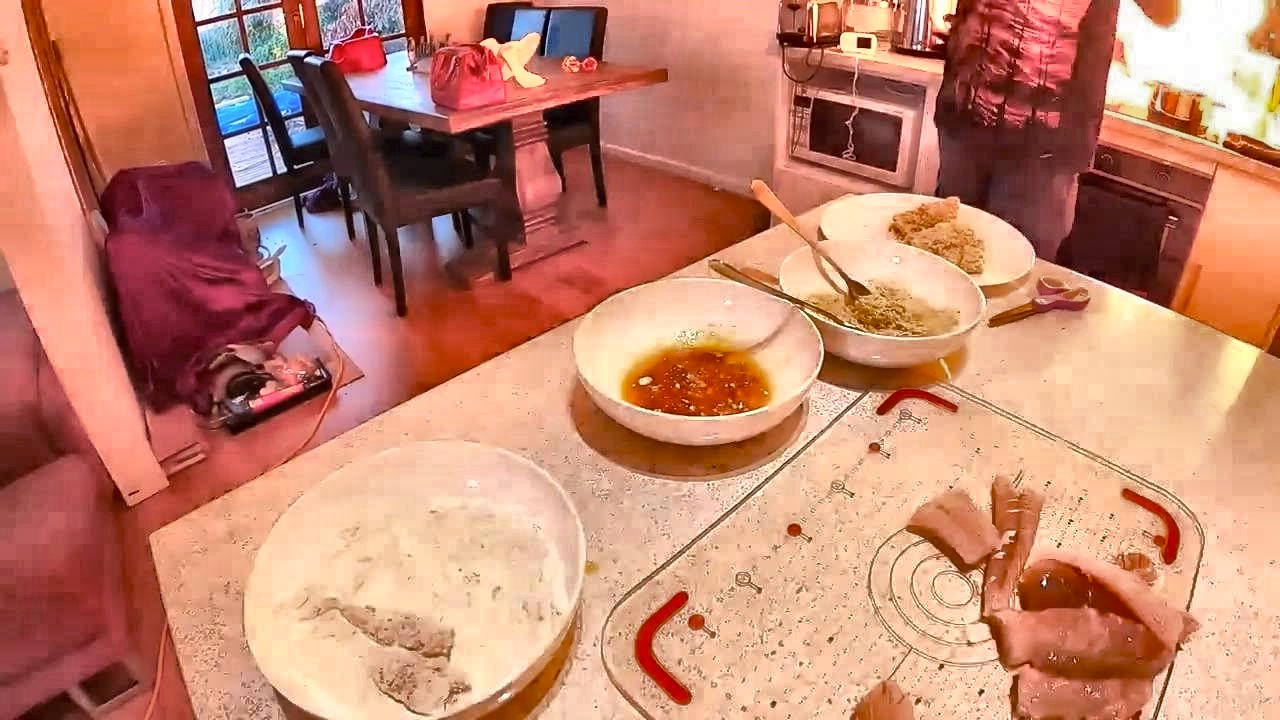fire: (1103, 3, 1272, 144)
